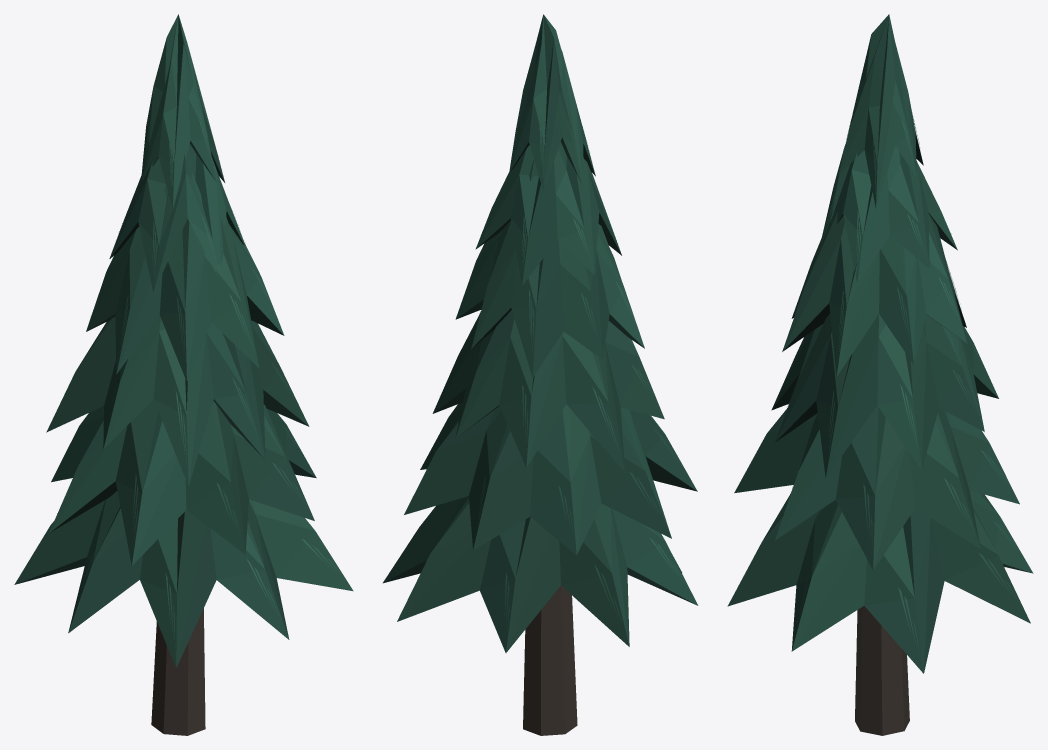
File: Spruce1.glb
The picture shows the model from 3 angles, left to right: view 1: azimuth 30°, elevation 25°; view 2: azimuth 150°, elevation 25°; view 3: azimuth 270°, elevation 25°; orthographic projection.
Parts seen in each view (by area): view 1: Spruce1; view 2: Spruce1; view 3: Spruce1.
Boxes of the visible parts, x1,y1,x2,y2 form: Spruce1: (14,14,353,735); Spruce1: (383,14,698,735); Spruce1: (727,14,1033,735).
Bounding box in the file's own units: 0.4064 × 1 × 0.3903.
